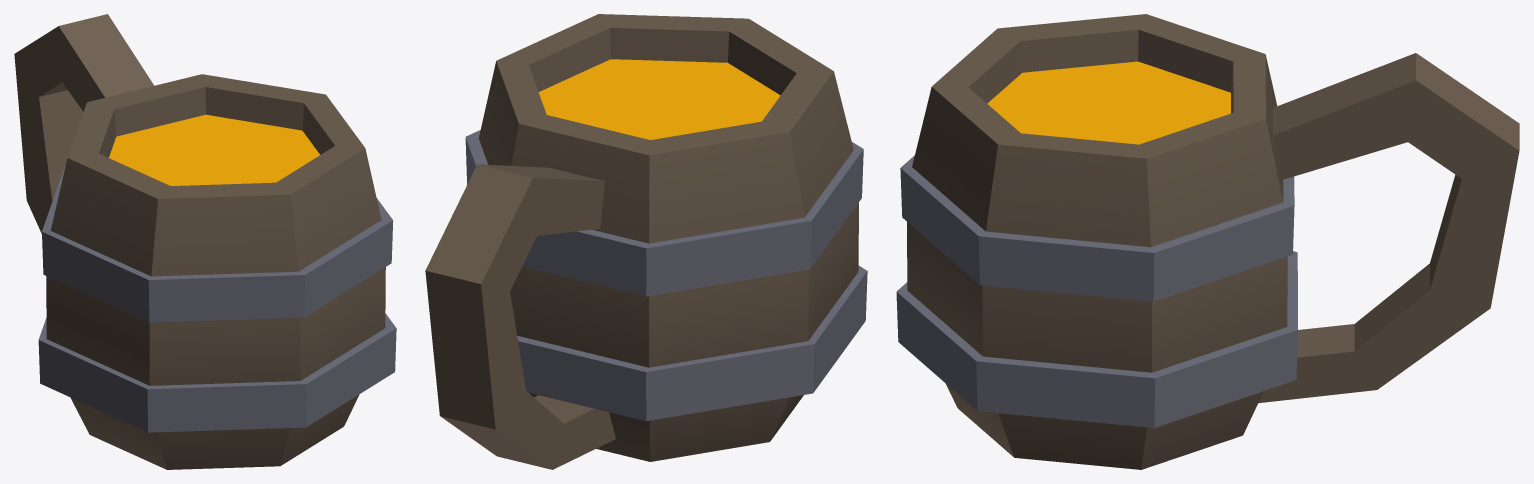
Rendered from _cup.fbx.
3 renders of one model, left to right at view 1: azimuth 30°, elevation 25°; view 2: azimuth 150°, elevation 25°; view 3: azimuth 270°, elevation 25°, orthographic. The views are drawn at different scales.
Parts seen in each view (by area): view 1: cup; view 2: cup; view 3: cup.
Part boxes in pixels (x1,y1,x2,y2): cup: (14,14,396,469); cup: (425,14,867,469); cup: (896,14,1519,469).
Size of the model in its own units: 20.03 by 18.42 by 30.3.
